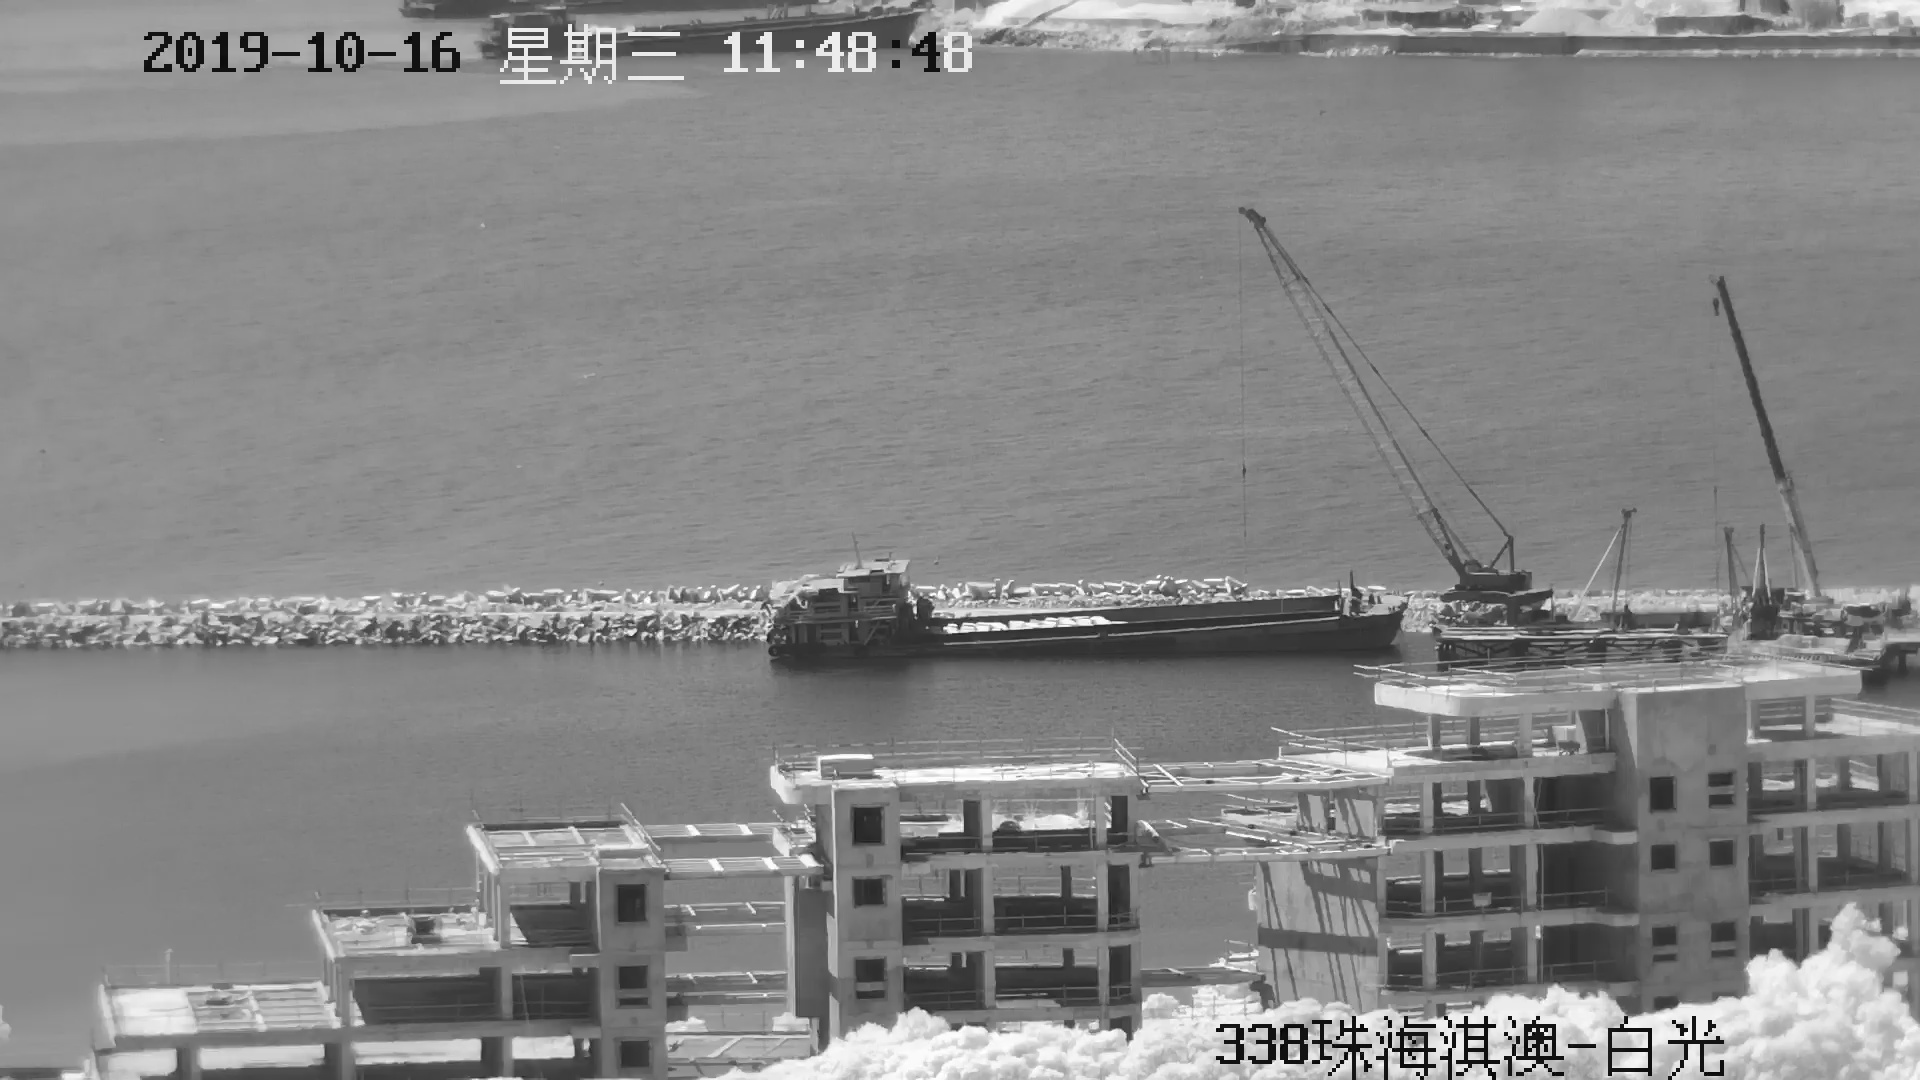ship: (773, 543, 1400, 674)
